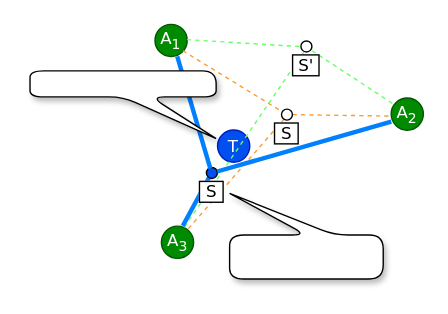
Image size: 448x314. Some labels were removed from this diagram. The centre of each missing label's shape, as x and y in pixels:
actual tag position: pixel 123 106
best-matching tag position: pixel 307 237
